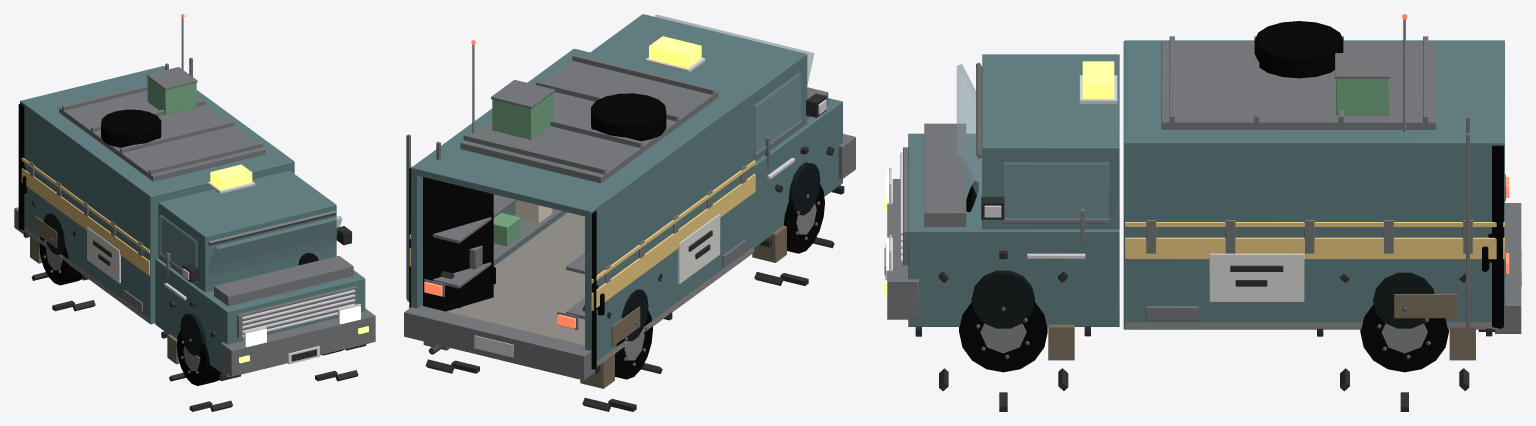
The model's file is van.glb.
3 renders of one model, left to right at view 1: azimuth 30°, elevation 25°; view 2: azimuth 150°, elevation 25°; view 3: azimuth 270°, elevation 25°, orthographic. The views are drawn at different scales.
Parts seen in each view (by area): view 1: Van, Door_L; view 2: Van, Door_R, Door_L; view 3: Van, Door_R.
Part boxes in pixels (x1=…): Van: x1=14, y1=14, x2=375, y2=411; Door_L: x1=18, y1=103, x2=27, y2=229; Van: x1=404, y1=14, x2=855, y2=411; Door_R: x1=409, y1=168, x2=495, y2=311; Door_L: x1=591, y1=210, x2=604, y2=369; Van: x1=884, y1=14, x2=1521, y2=411; Door_R: x1=1482, y1=145, x2=1503, y2=328.
Size of the model in its own units: 2.71 by 4.04 by 6.04.
